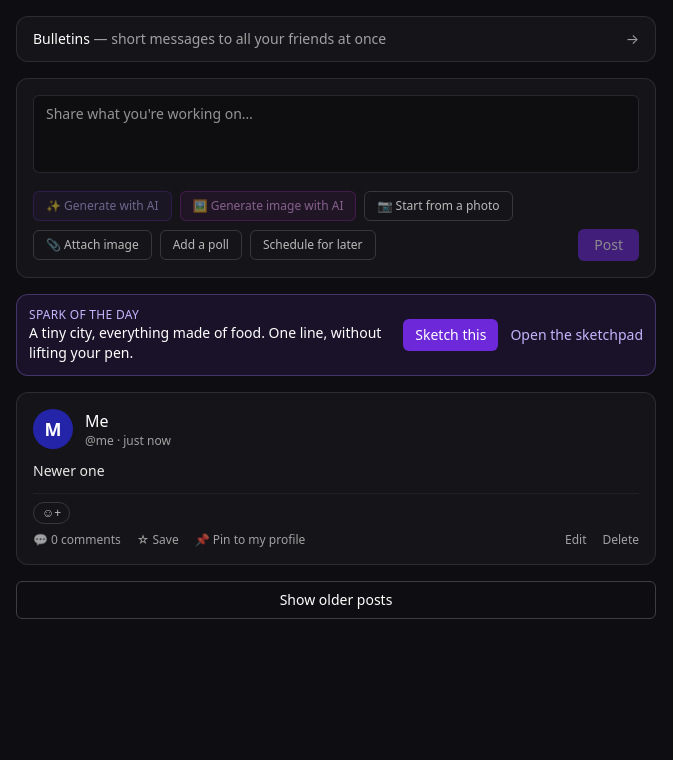
Scenario: FeedPage › shows older posts after the oldest one on the page, until there are none
The width and height of the screenshot is (673, 760).
What coordinates should you click on to do the following:
click the button "Show older posts"
I would click on:
 (336, 600)
Its box is 16,581 -> 656,619.
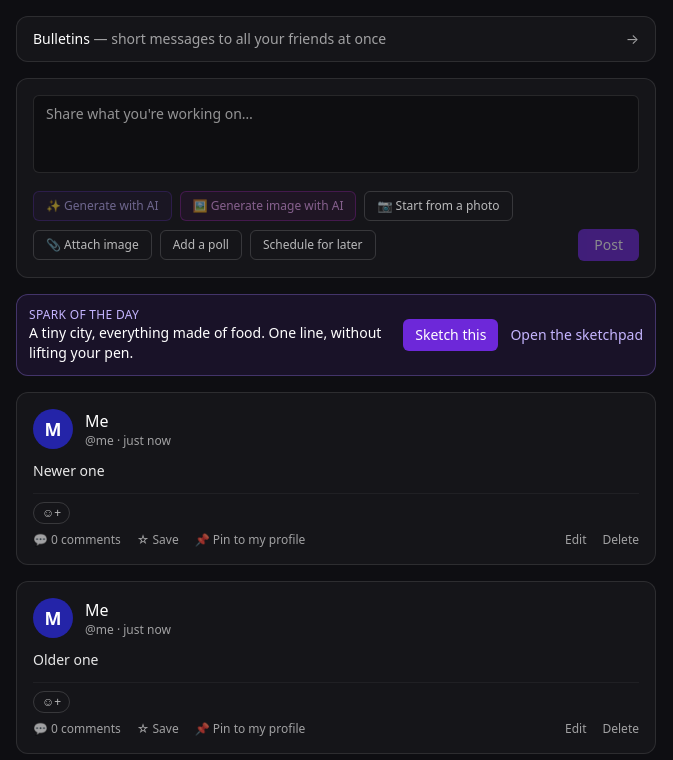
Expected: the text "Newer one" is shown, 33,461 -> 105,480
Expected: the text "Older one" is shown, 33,650 -> 98,669
Expected: the button "Show older posts" is gone
